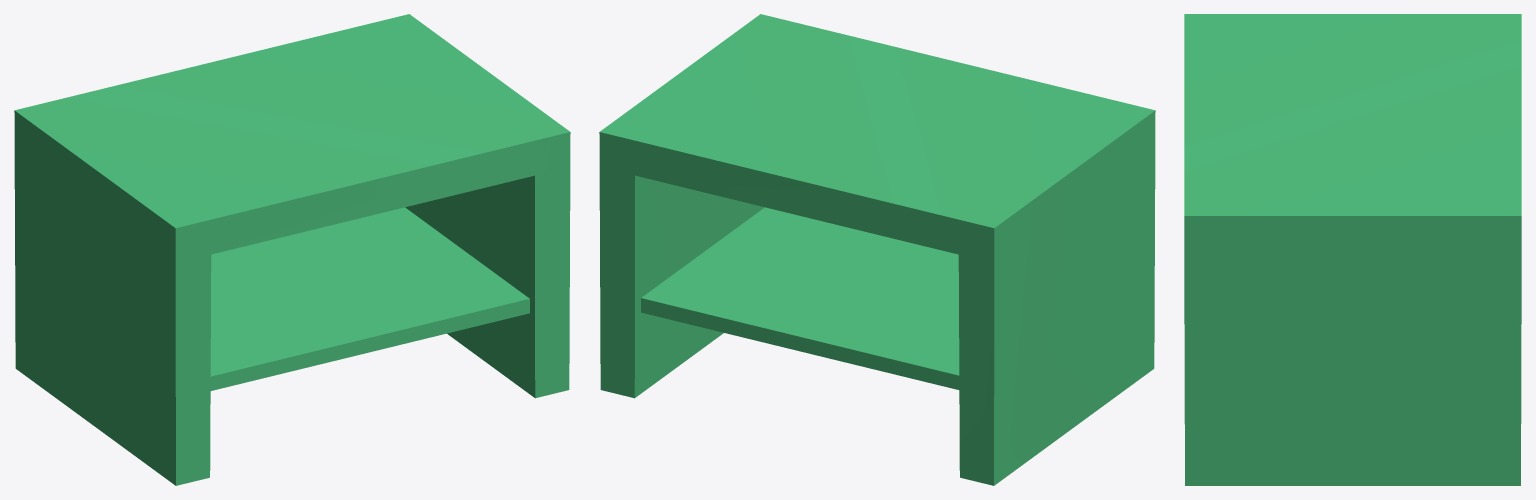
File: shelf_064.glb
3 views of the same model, side by side, from view 1: azimuth 30°, elevation 25°; view 2: azimuth 150°, elevation 25°; view 3: azimuth 270°, elevation 25° (orthographic). The views are drawn at different scales.
Parts seen in each view (by area): view 1: shelf_064; view 2: shelf_064; view 3: shelf_064.
Part boxes in pixels (<box>): shelf_064: <box>14,14,570,485</box>; shelf_064: <box>599,14,1155,485</box>; shelf_064: <box>1184,14,1521,485</box>.
Size of the model in its own units: 0.6707 by 0.419 by 0.4741.
1 material, 1 textured.
